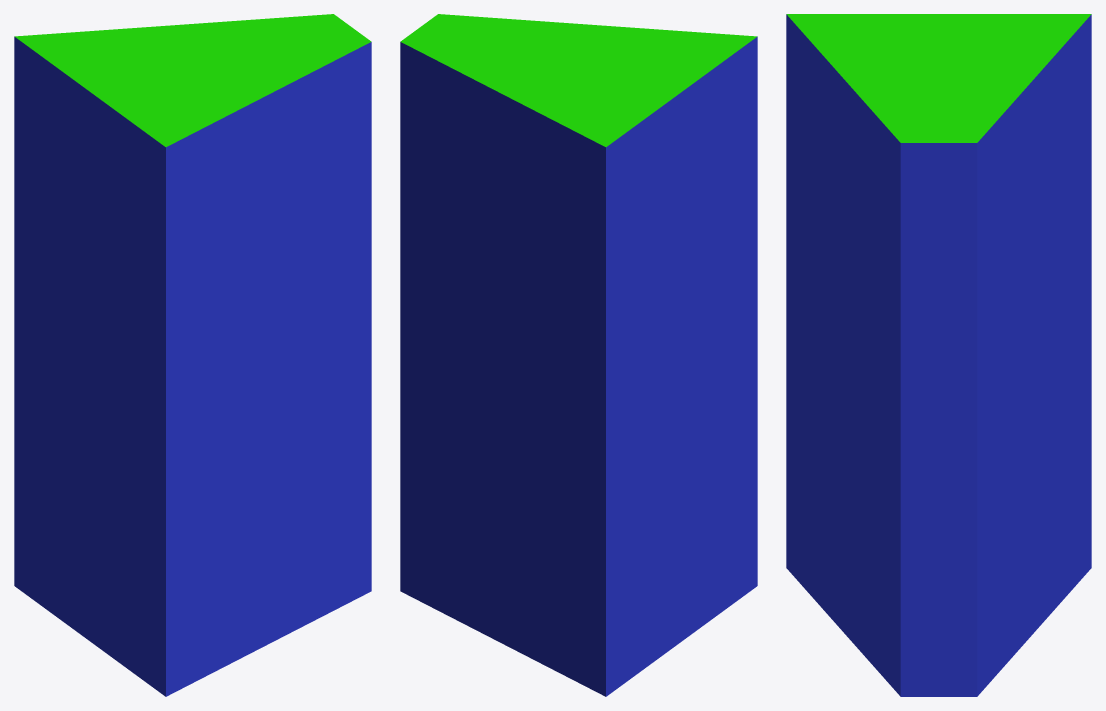
The model's file is trapezoidalPrismFBX.fbx.
The picture shows the model from 3 angles, left to right: view 1: azimuth 30°, elevation 25°; view 2: azimuth 150°, elevation 25°; view 3: azimuth 270°, elevation 25°; orthographic projection.
Parts seen in each view (by area): view 1: Cube; view 2: Cube; view 3: Cube.
Part boxes in pixels (x1,y1,x2,y2): Cube: [14, 14, 371, 696]; Cube: [400, 14, 757, 696]; Cube: [786, 14, 1091, 696].
Size of the model in its own units: 200 by 200 by 400.
